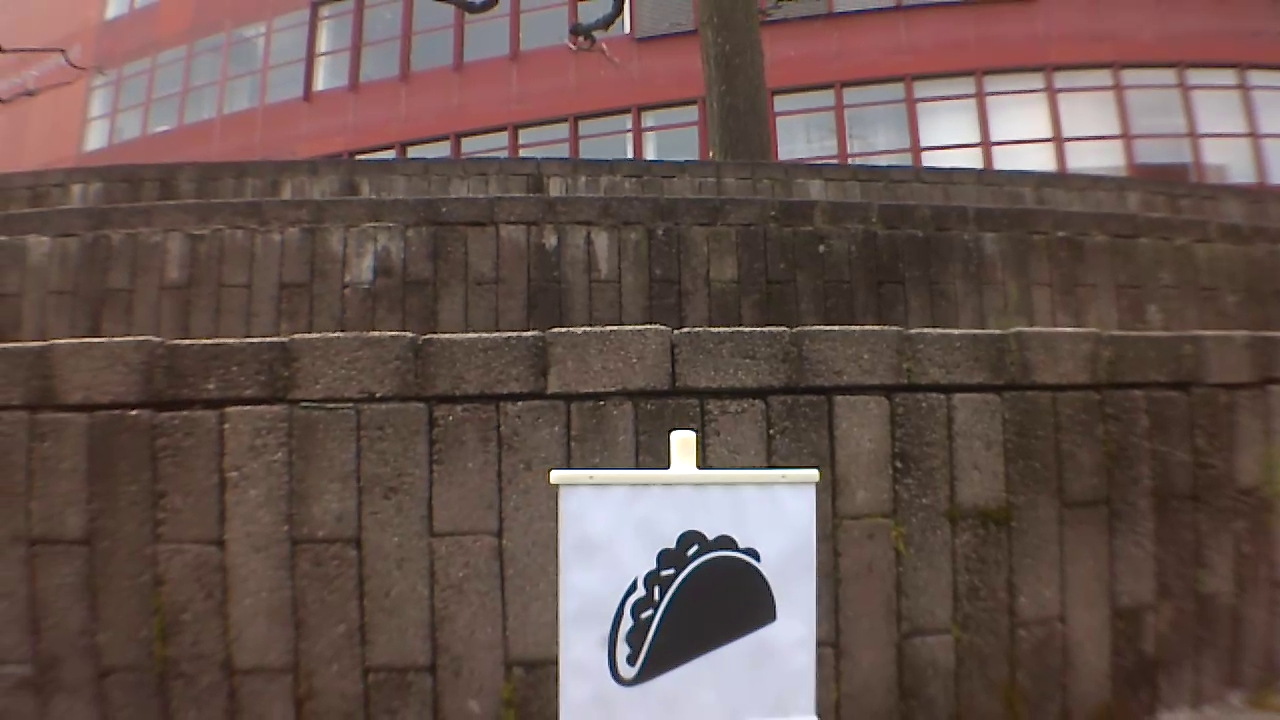taco: (595, 518, 781, 695)
